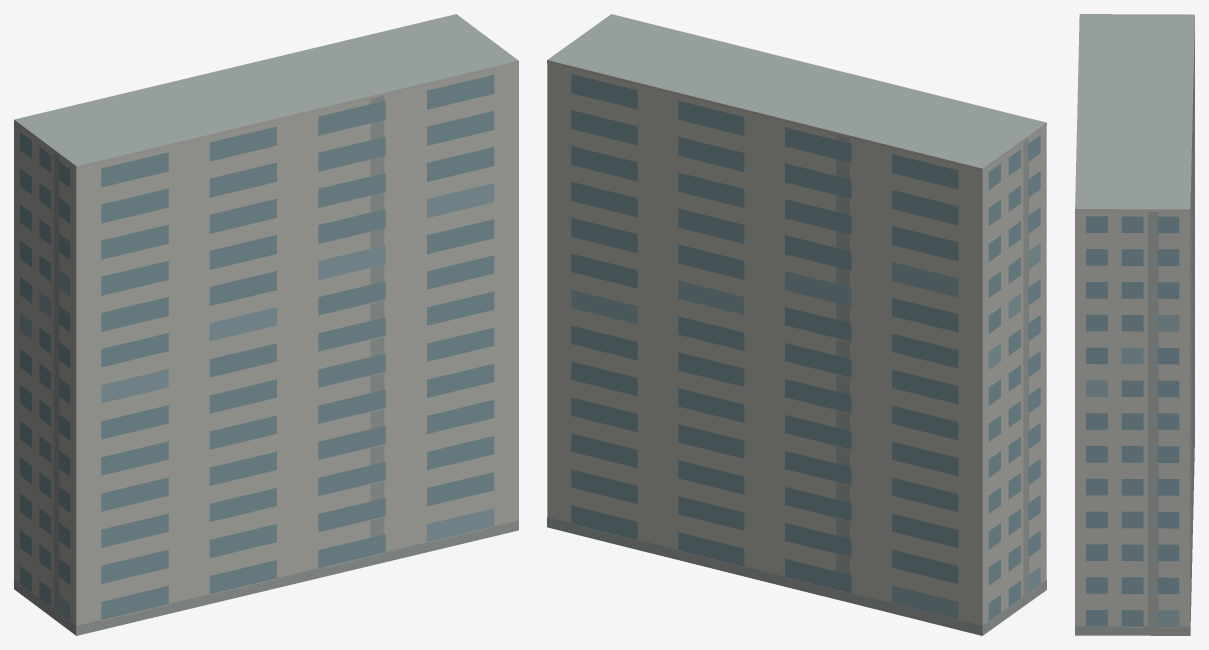
The model's file is residential-97da2492-e858-4b70-ba32-01ebc8a28274.glb.
The picture shows the model from 3 angles, left to right: view 1: azimuth 30°, elevation 25°; view 2: azimuth 150°, elevation 25°; view 3: azimuth 270°, elevation 25°; orthographic projection. The views are drawn at different scales.
Visible parts, largest first — view 1: residential-97da2492-e858-4b70-ba32-01ebc8a28274.tmp; view 2: residential-97da2492-e858-4b70-ba32-01ebc8a28274.tmp; view 3: residential-97da2492-e858-4b70-ba32-01ebc8a28274.tmp.
Part boxes in pixels (x1,y1,x2,y2): residential-97da2492-e858-4b70-ba32-01ebc8a28274.tmp: (14,14,518,635); residential-97da2492-e858-4b70-ba32-01ebc8a28274.tmp: (547,14,1046,635); residential-97da2492-e858-4b70-ba32-01ebc8a28274.tmp: (1075,14,1194,635).
Bounding box in the file's own units: 38.98 × 39.65 × 10.11.
